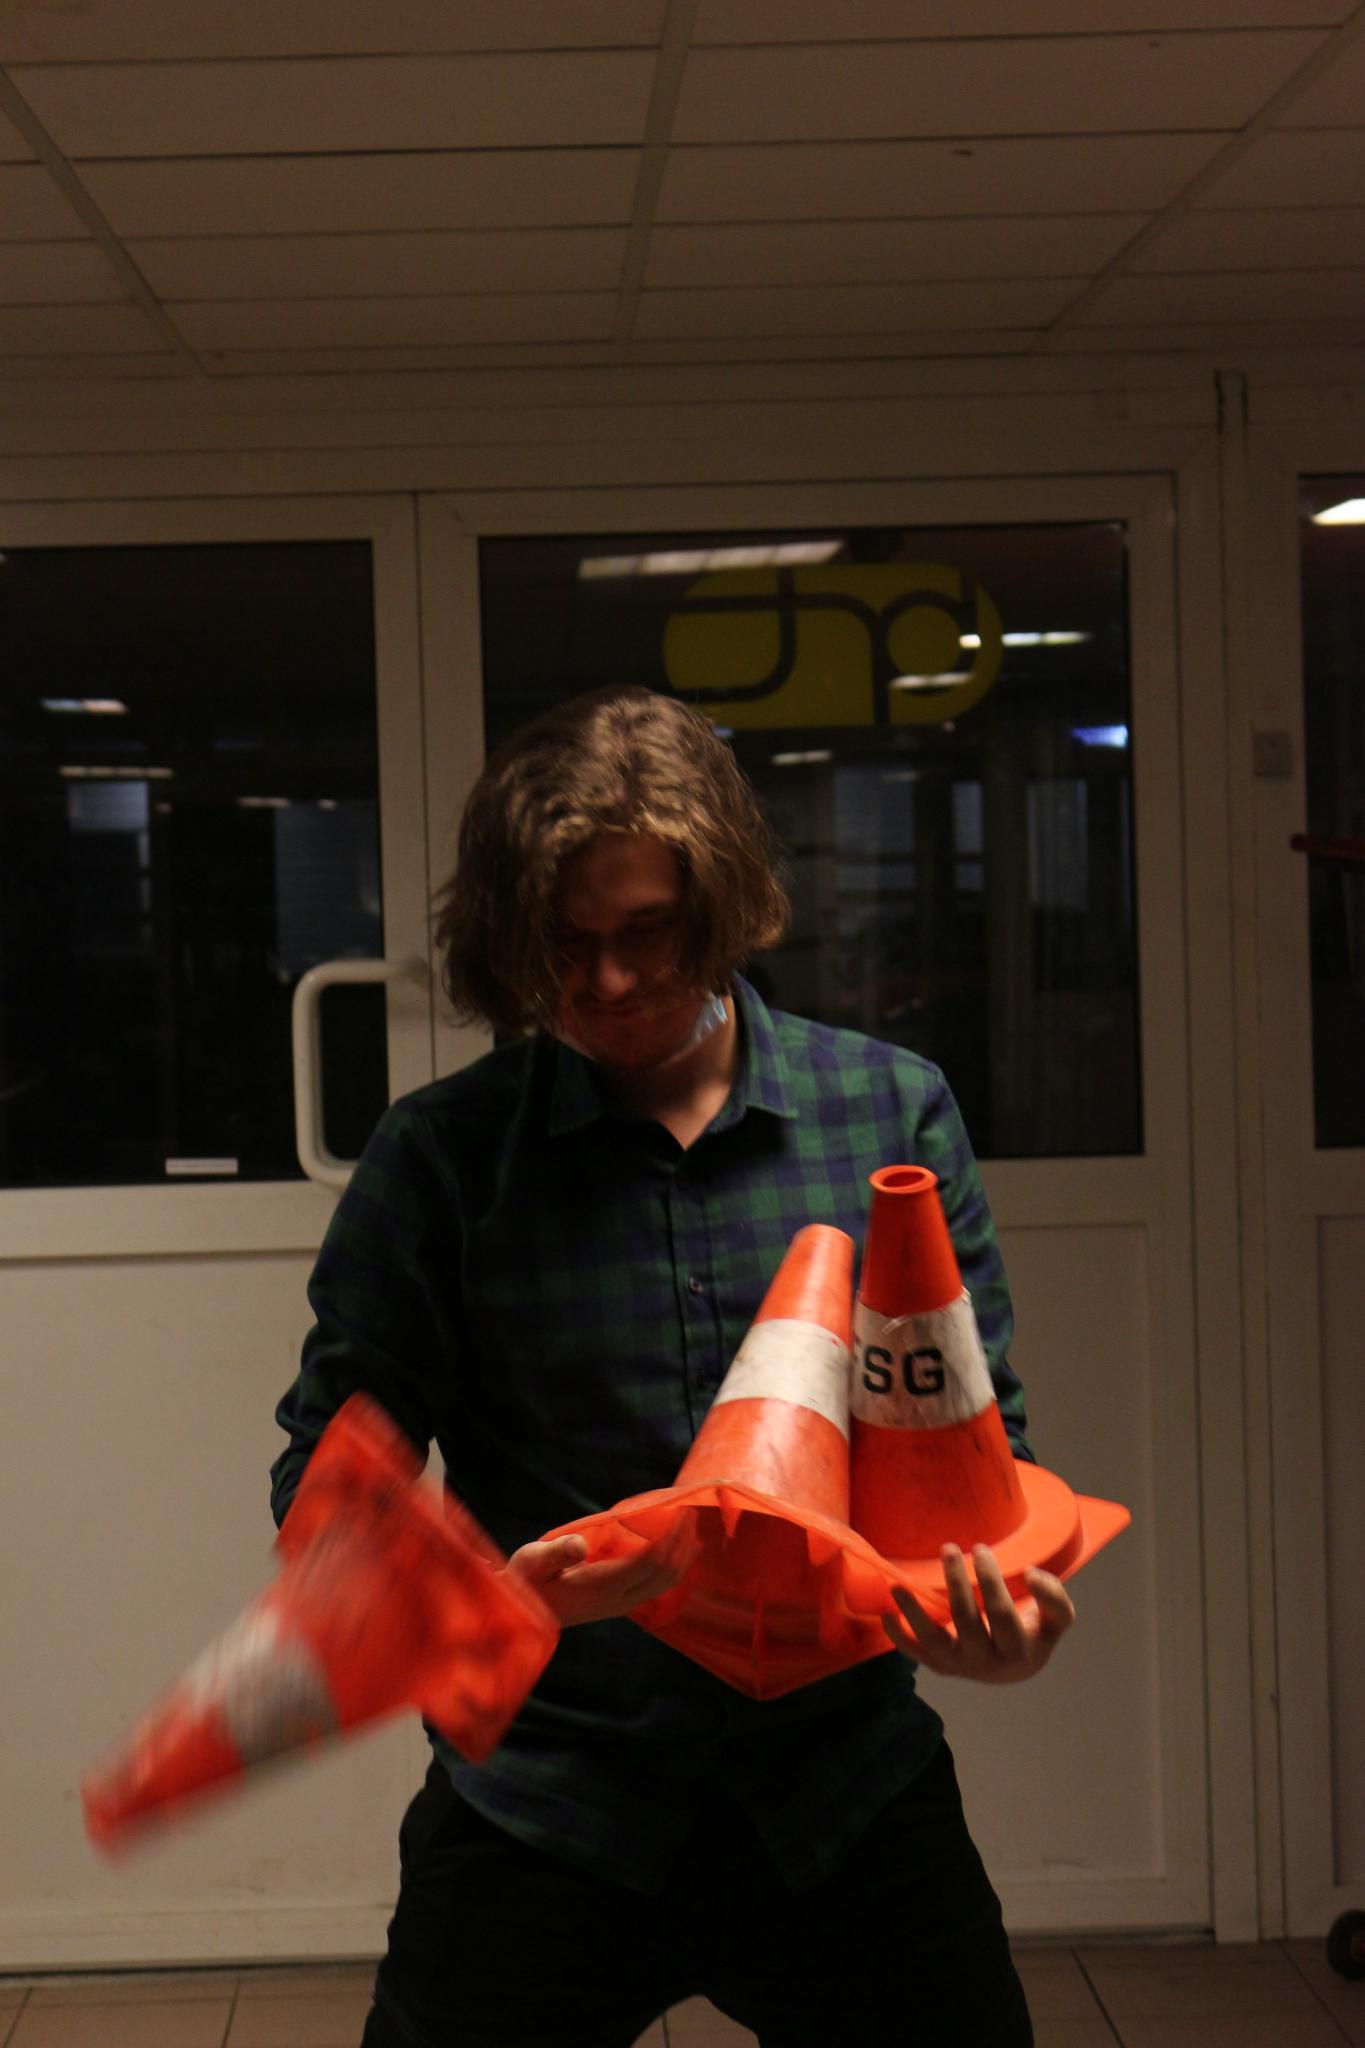Orange_Cone: (67, 1431, 550, 1845), (555, 1157, 864, 1681), (842, 1163, 1092, 1608)
